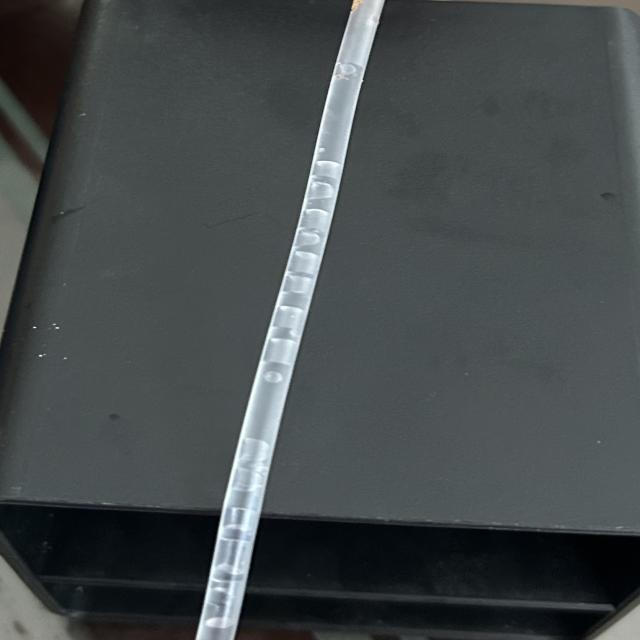bubble: (208, 536, 260, 577), (194, 588, 240, 629), (231, 434, 282, 464), (266, 302, 312, 329), (222, 505, 262, 533), (258, 338, 304, 362), (296, 205, 338, 231), (330, 56, 358, 90), (284, 252, 327, 274), (316, 159, 344, 183), (264, 368, 287, 390), (315, 140, 334, 150)
